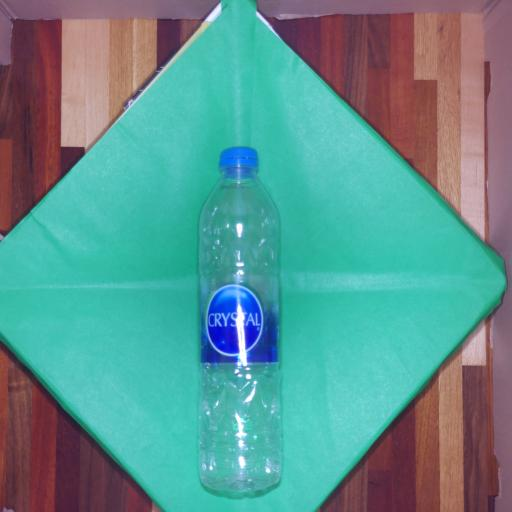bottle: (188, 136, 291, 504)
